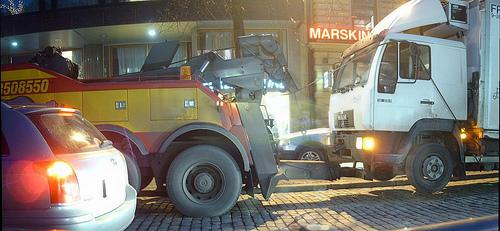truck: (326, 0, 500, 195)
